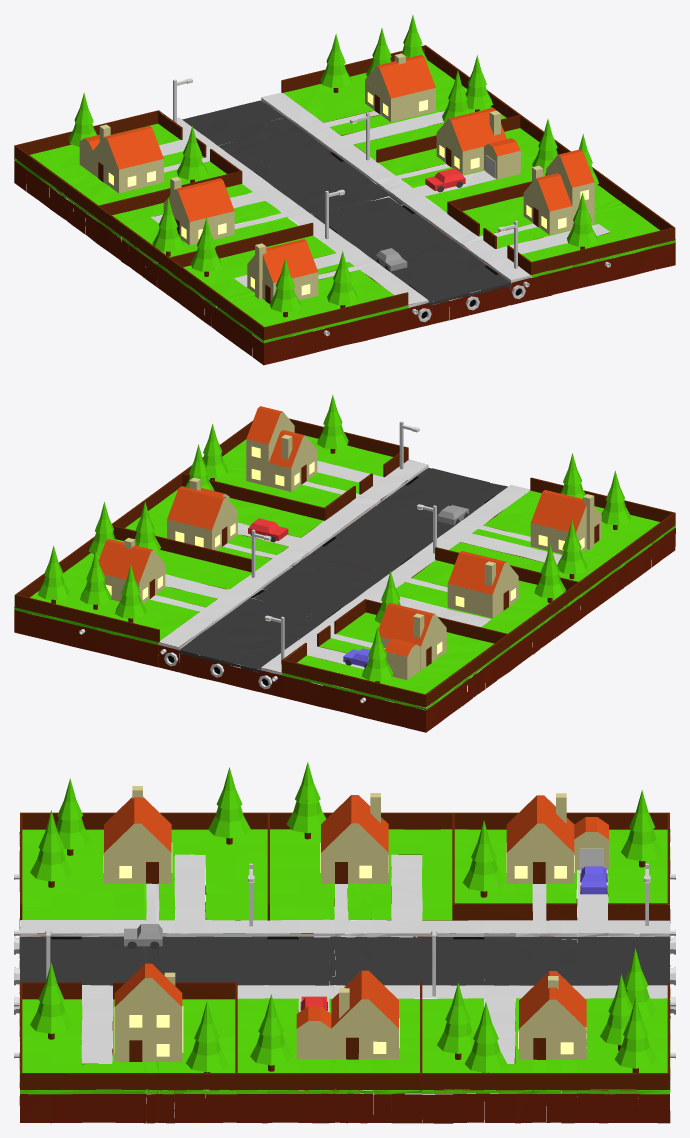
The model's file is neighborhood2.glb.
3 views of the same model, one above another, from view 1: azimuth 30°, elevation 25°; view 2: azimuth 150°, elevation 25°; view 3: azimuth 270°, elevation 25° (orthographic). The views are drawn at different scales.
Visible parts, largest first — view 1: Plane_3, Cube.004_11, Cube.002_12, Cube.001_10, Cube.062_9, Cube.060_8, Cube.058_7, Cube.056_6, Cube.054_5, Cube.010_18, Cube.005_14, Cube.006_15 (+11 smaller); view 2: Plane_3, Cube.004_11, Cube.002_12, Cube.060_8, Cube.062_9, Cube.056_6, Cube.001_10, Cube.054_5, Cube.058_7, Cube.017_19, Cube.023_25, Cube.010_18 (+12 smaller); view 3: Plane_3, Cube.002_12, Cube.004_11, Cube.062_9, Cube.001_10, Cube.060_8, Cube.056_6, Cube.054_5, Cube.058_7, Cube.009_17, Cube.021_23, Cube.008_16 (+14 smaller).
Boxes of the visible parts, x1,y1,x2,y2 form: Plane_3: (14,60,675,365); Cube.004_11: (14,110,408,340); Cube.002_12: (281,45,675,274); Cube.001_10: (436,108,520,179); Cube.062_9: (79,124,163,193); Cube.060_8: (523,149,594,234); Cube.058_7: (365,53,435,122); Cube.056_6: (163,176,234,245); Cube.054_5: (247,239,318,303); Cube.010_18: (320,33,351,92); Cube.005_14: (270,258,301,317); Cube.006_15: (190,217,222,276); Plane_3: (14,436,675,732); Cube.004_11: (281,477,675,707); Cube.002_12: (14,418,408,642); Cube.060_8: (246,406,317,491); Cube.062_9: (378,603,446,680); Cube.056_6: (447,551,518,619); Cube.001_10: (167,477,237,550); Cube.054_5: (530,490,601,553); Cube.058_7: (98,537,165,603); Cube.017_19: (80,550,111,609); Cube.023_25: (317,394,348,453); Cube.010_18: (115,564,146,622); Plane_3: (19,829,670,1123); Cube.002_12: (20,982,669,1090); Cube.004_11: (20,812,669,920); Cube.062_9: (506,793,608,885); Cube.001_10: (296,970,399,1059); Cube.060_8: (114,963,183,1062); Cube.056_6: (320,793,388,883); Cube.054_5: (103,786,172,883); Cube.058_7: (518,971,586,1059); Cube.009_17: (462,820,505,897); Cube.021_23: (250,994,292,1071); Cube.008_16: (621,790,663,867).
Bounding box in the file's own units: 18.33 × 3.82 × 19.57.
